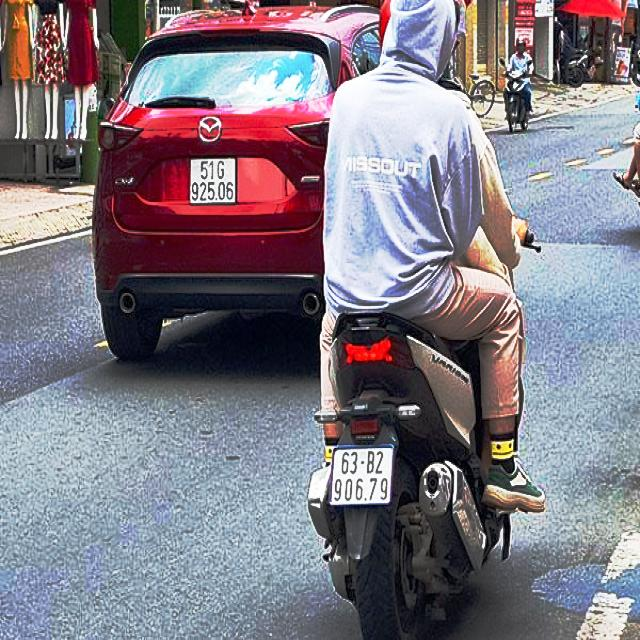license_plate: (332, 447, 394, 504), (189, 159, 239, 204)
